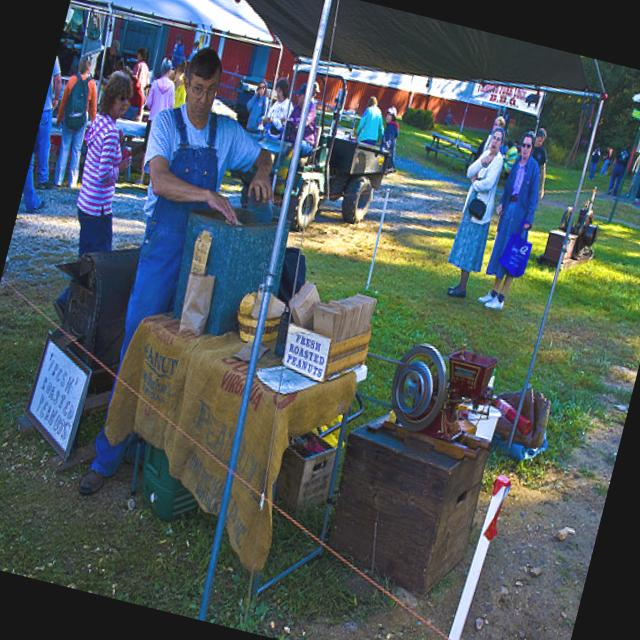Vehicle: (278, 69, 417, 251)
